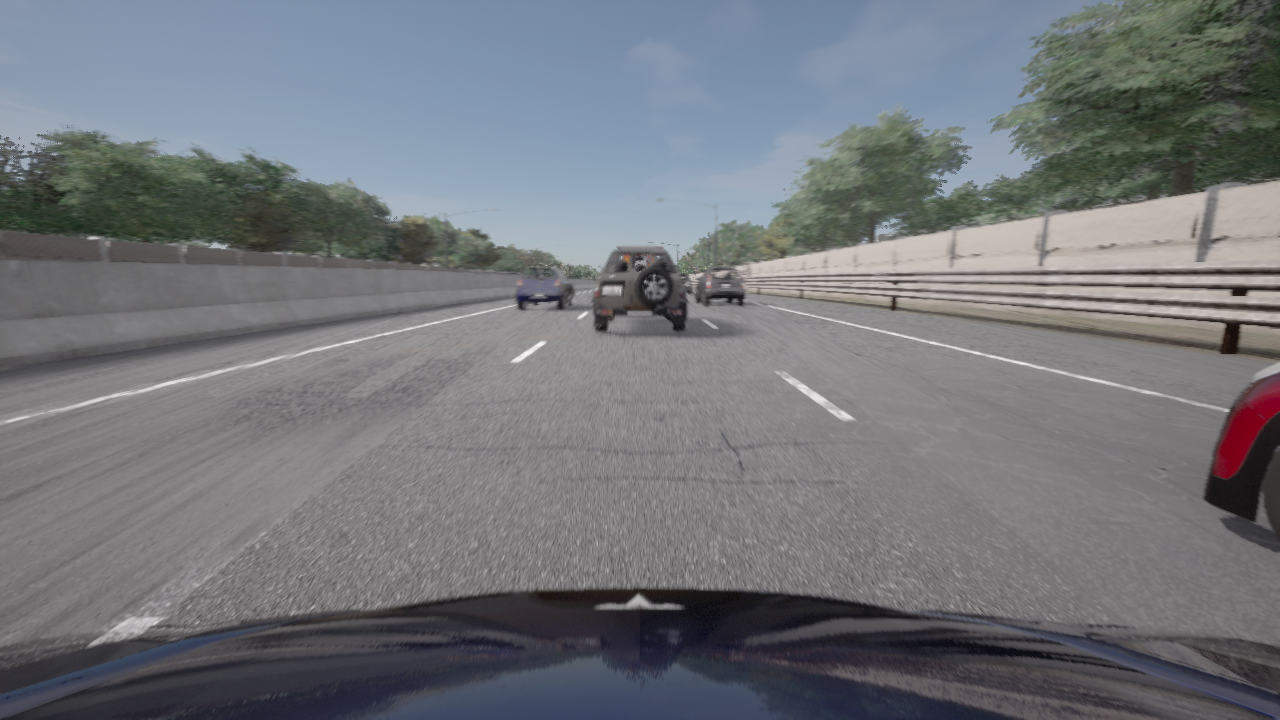cyclist: (0, 588, 1279, 719), (1204, 361, 1279, 540), (592, 246, 687, 331), (517, 268, 574, 309), (696, 267, 745, 305), (680, 274, 691, 292)
